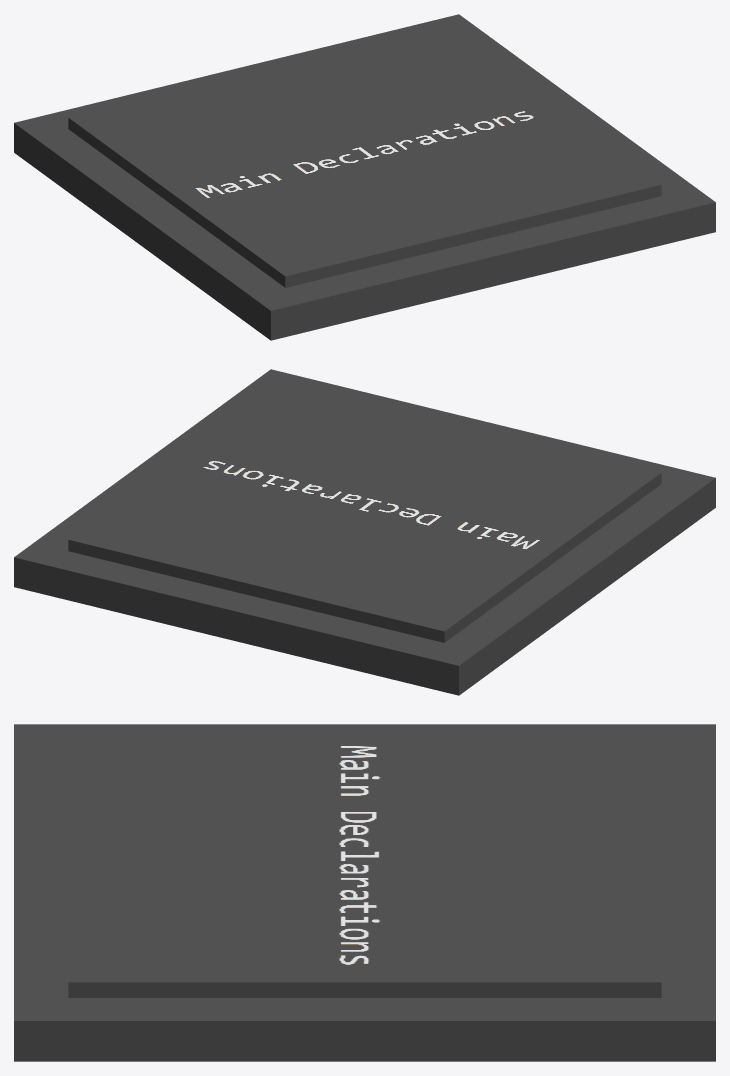
The model's file is lvl1-tile2.fbx.
3 views of the same model, one above another, from view 1: azimuth 30°, elevation 25°; view 2: azimuth 150°, elevation 25°; view 3: azimuth 270°, elevation 25° (orthographic). The views are drawn at different scales.
Parts seen in each view (by area): view 1: Cube; view 2: Cube; view 3: Cube.
Boxes of the visible parts, left/top/right/bottom form: Cube: left=14, top=14, right=715, bottom=340; Cube: left=14, top=369, right=715, bottom=695; Cube: left=14, top=724, right=715, bottom=1061.
Bounding box in the file's own units: 200 × 17.74 × 200.
